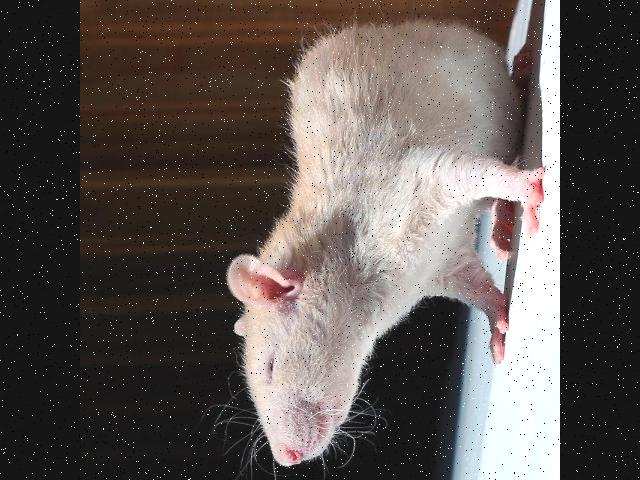Tikus: (226, 22, 544, 468)
